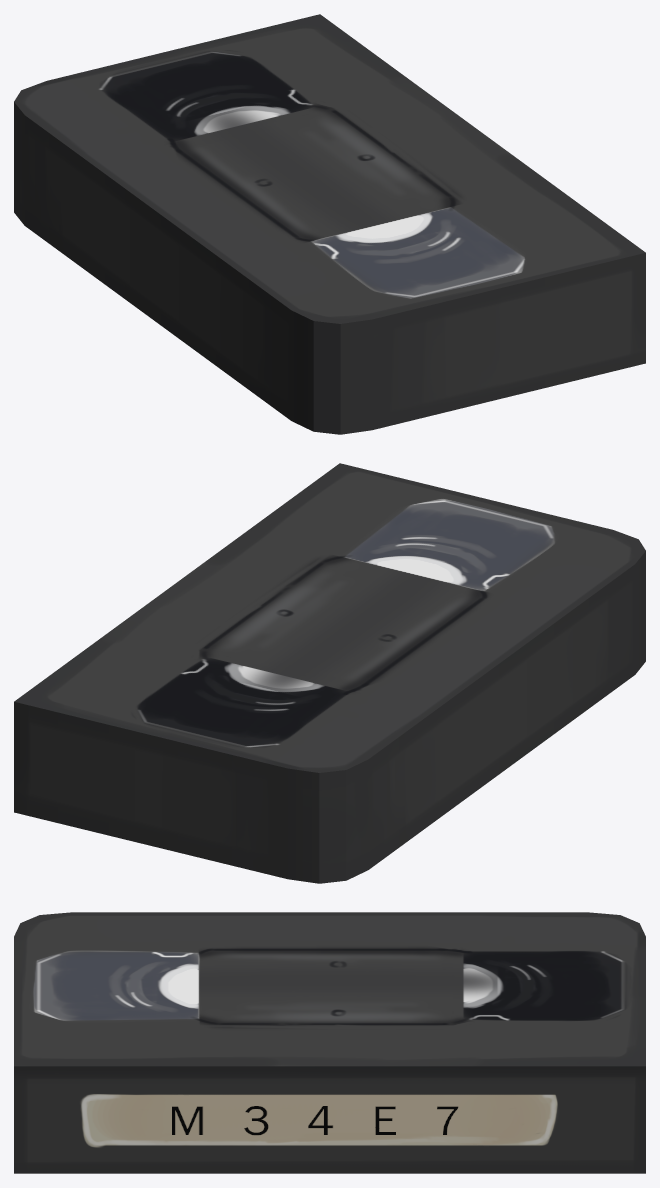
The model's file is VHSTape_m34e7.FBX.
The picture shows the model from 3 angles, top to bottom: view 1: azimuth 30°, elevation 25°; view 2: azimuth 150°, elevation 25°; view 3: azimuth 270°, elevation 25°; orthographic projection. The views are drawn at different scales.
Visible parts, largest first — view 1: tape002; view 2: tape002; view 3: tape002.
Boxes of the visible parts, x1,y1,x2,y2 form: tape002: (14,14,645,434); tape002: (14,463,645,883); tape002: (14,912,645,1173).
Size of the model in its own units: 11.66 by 3.8 by 20.25.
1 material, 1 textured.
